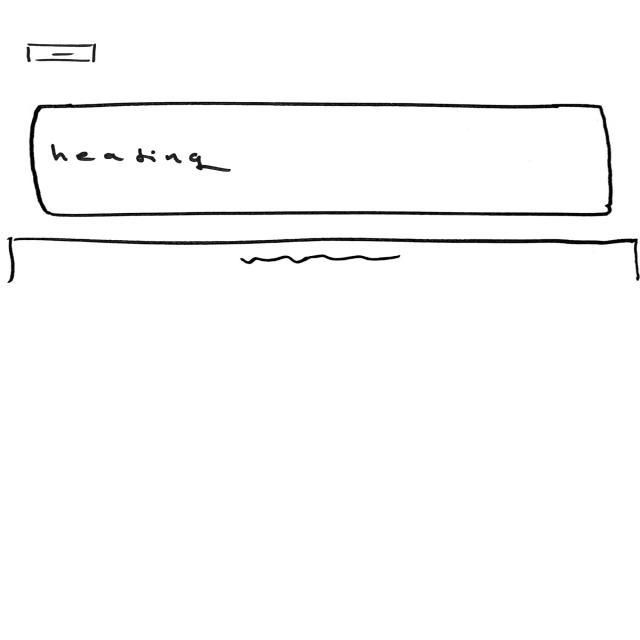container: (29, 102, 614, 217)
icon-button: (23, 43, 98, 64)
label: (50, 142, 232, 172)
text: (238, 254, 402, 266)
